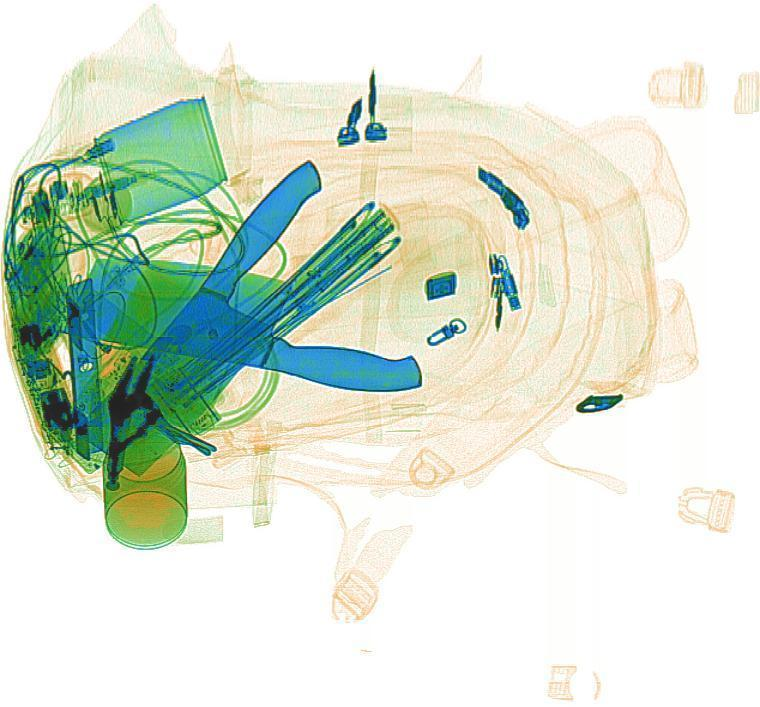Knife: (58, 152, 381, 479), (63, 244, 437, 400)
